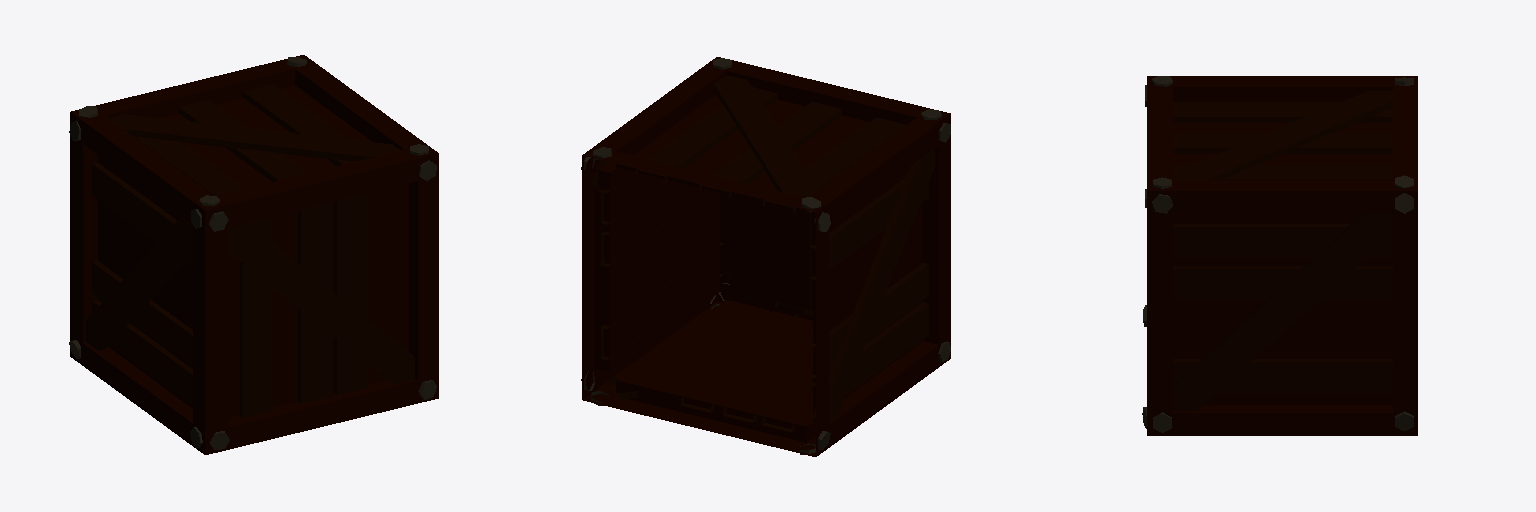
Rendered from CrateExtra002.obj.
3 renders of one model, left to right at view 1: azimuth 30°, elevation 25°; view 2: azimuth 150°, elevation 25°; view 3: azimuth 270°, elevation 25°, orthographic.
Visible parts, largest first — view 1: Box001, Box016, Box021, Box002, Box022, Box003, Box017, Box005, Box004, Box020, Box018, Box019 (+3 smaller); view 2: Box006, Box011, Box016, Box021, Box001, Box017, Box022, Box018, Box020, Box025, Box023, Box019 (+1 smaller); view 3: Box006, Box021, Box007, Box010, Box009, Box008, Box022, Box024, Box023, Box025.
Part boxes in pixels (x1,y1,x2,y2): Box001: (205, 154, 438, 454); Box016: (70, 112, 204, 454); Box021: (71, 55, 438, 210); Box002: (227, 223, 414, 384); Box022: (108, 114, 400, 161); Box003: (298, 203, 331, 403); Box017: (86, 217, 192, 350); Box005: (240, 217, 272, 417); Box004: (334, 194, 366, 394); Box020: (92, 163, 192, 268); Box018: (92, 300, 192, 405); Box019: (92, 261, 192, 366); Box006: (582, 155, 719, 399); Box011: (583, 300, 815, 456); Box016: (813, 114, 950, 456); Box021: (583, 57, 950, 213); Box001: (717, 193, 815, 320); Box017: (812, 149, 934, 420); Box022: (714, 75, 816, 210); Box018: (810, 302, 928, 416); Box020: (810, 177, 928, 279); Box025: (635, 87, 777, 182); Box023: (699, 102, 841, 198); Box019: (810, 263, 928, 378); Box006: (1147, 191, 1417, 435); Box021: (1147, 76, 1417, 190); Box007: (1173, 213, 1392, 410); Box010: (1173, 359, 1392, 393); Box009: (1173, 224, 1392, 257); Box008: (1173, 266, 1392, 299); Box022: (1173, 91, 1392, 179); Box024: (1173, 102, 1392, 122); Box023: (1173, 133, 1392, 153); Box025: (1173, 165, 1392, 179).
Size of the model in its own units: 16.61 by 16.61 by 16.31.